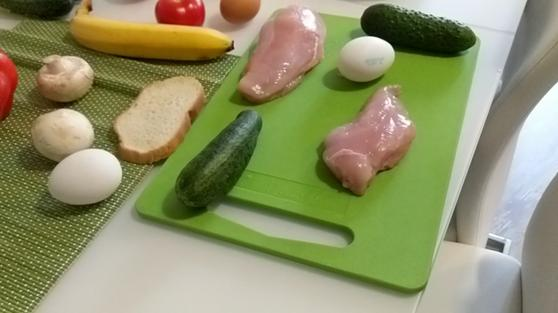banana: (71, 2, 234, 62)
champignon: (29, 105, 96, 158), (39, 51, 95, 102)
chicken_fillet: (317, 85, 417, 195), (240, 8, 324, 102)
cucumber: (175, 108, 267, 209), (362, 1, 476, 55)
egg: (43, 145, 124, 206), (339, 34, 397, 81)
tomato: (152, 1, 206, 27), (222, 1, 260, 25)
white_bread: (111, 74, 206, 169)
